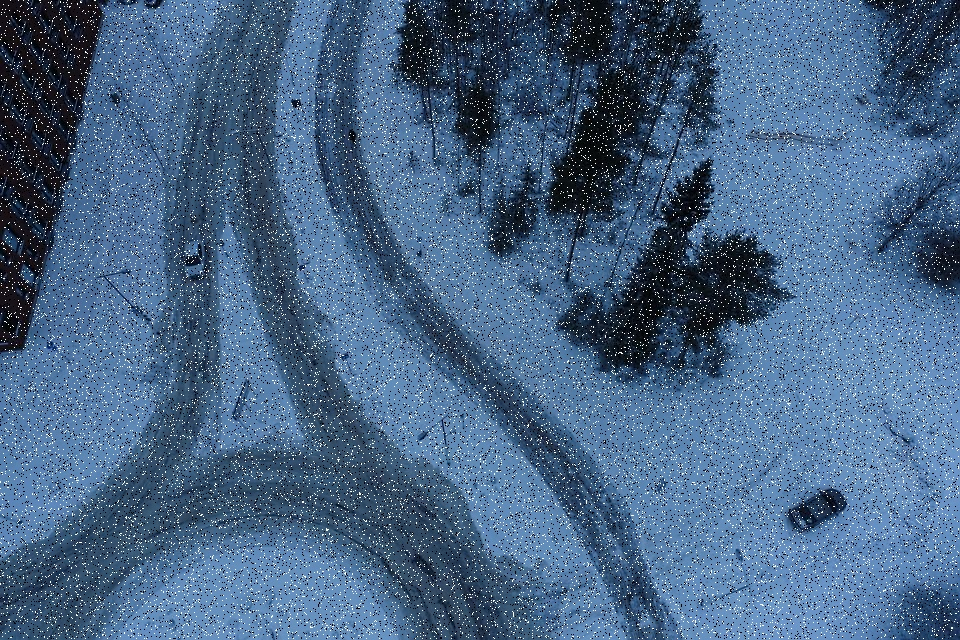roundabout: (0, 407, 688, 640)
